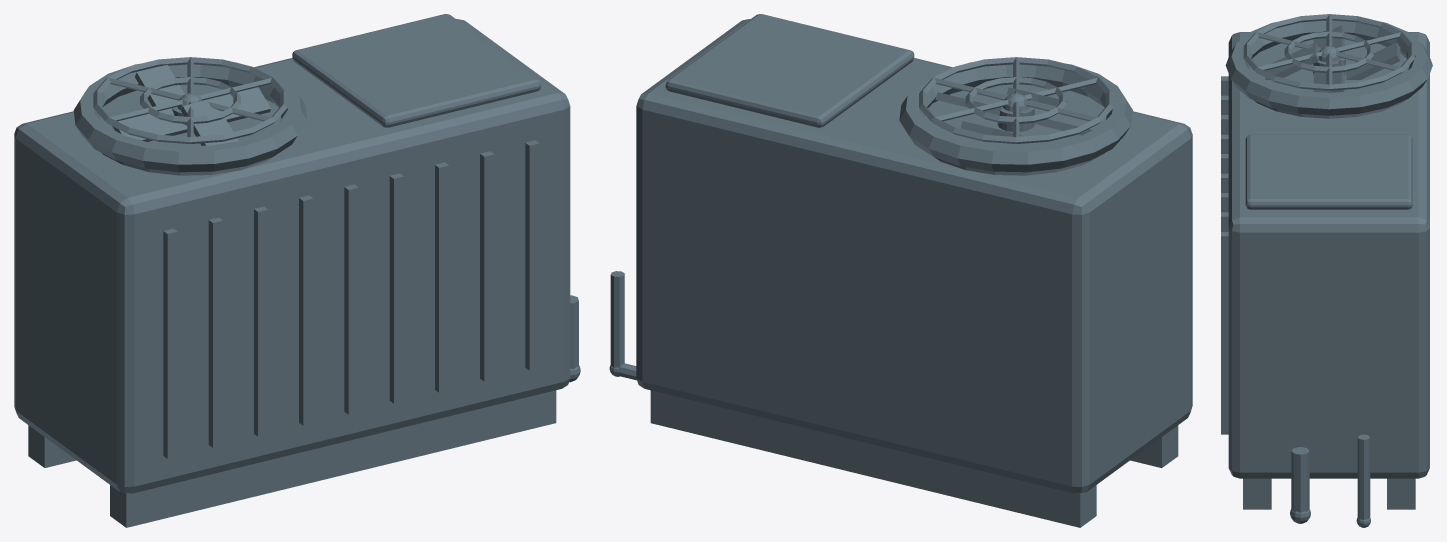
File: vrf-outdoor.glb
3 renders of one model, left to right at view 1: azimuth 30°, elevation 25°; view 2: azimuth 150°, elevation 25°; view 3: azimuth 270°, elevation 25°, orthographic. The views are drawn at different scales.
Visible parts, largest first — view 1: vrf_merged; view 2: vrf_merged; view 3: vrf_merged.
Boxes of the visible parts, left/top/right/bottom form: vrf_merged: left=14, top=14, right=580, bottom=527; vrf_merged: left=609, top=14, right=1192, bottom=527; vrf_merged: left=1221, top=14, right=1432, bottom=527.
Bounding box in the file's own units: 0.9027 × 0.6256 × 0.368.
